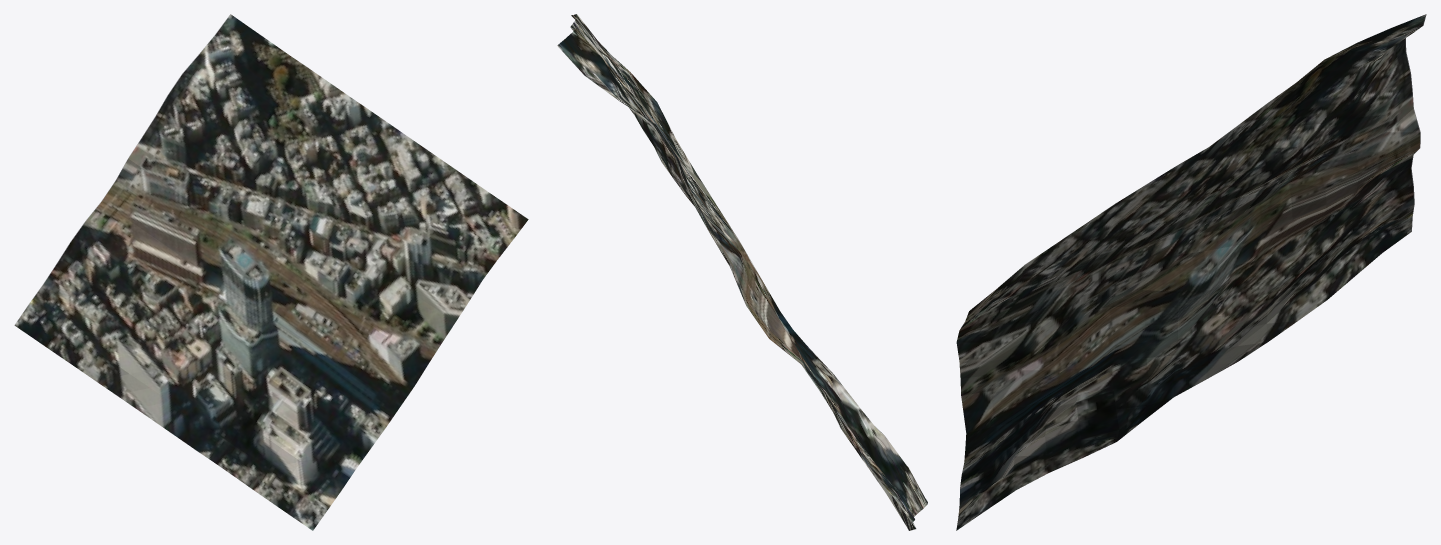
The picture shows the model from 3 angles, left to right: view 1: azimuth 30°, elevation 25°; view 2: azimuth 150°, elevation 25°; view 3: azimuth 270°, elevation 25°; orthographic projection. The views are drawn at different scales.
Size of the model in its own units: 555 by 555 by 414.
Materials: 1 (1 with a texture image).
